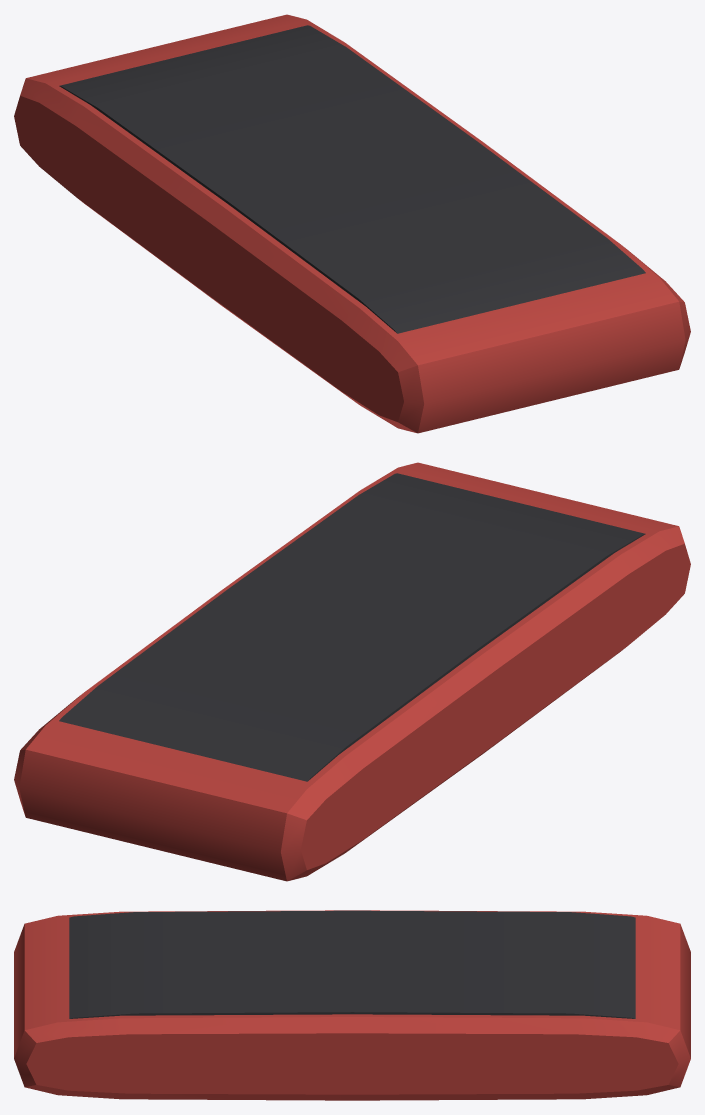
The model's file is bar_lod1.glb.
3 renders of one model, top to bottom at view 1: azimuth 30°, elevation 25°; view 2: azimuth 150°, elevation 25°; view 3: azimuth 270°, elevation 25°, orthographic. The views are drawn at different scales.
Visible parts, largest first — view 1: bar_lod1; view 2: bar_lod1; view 3: bar_lod1.
Boxes of the visible parts, x1=… form: bar_lod1: x1=14, y1=14, x2=690, y2=433; bar_lod1: x1=14, y1=462, x2=690, y2=881; bar_lod1: x1=14, y1=910, x2=690, y2=1100.
Size of the model in its own units: 0.09 by 0.0428 by 0.22.
